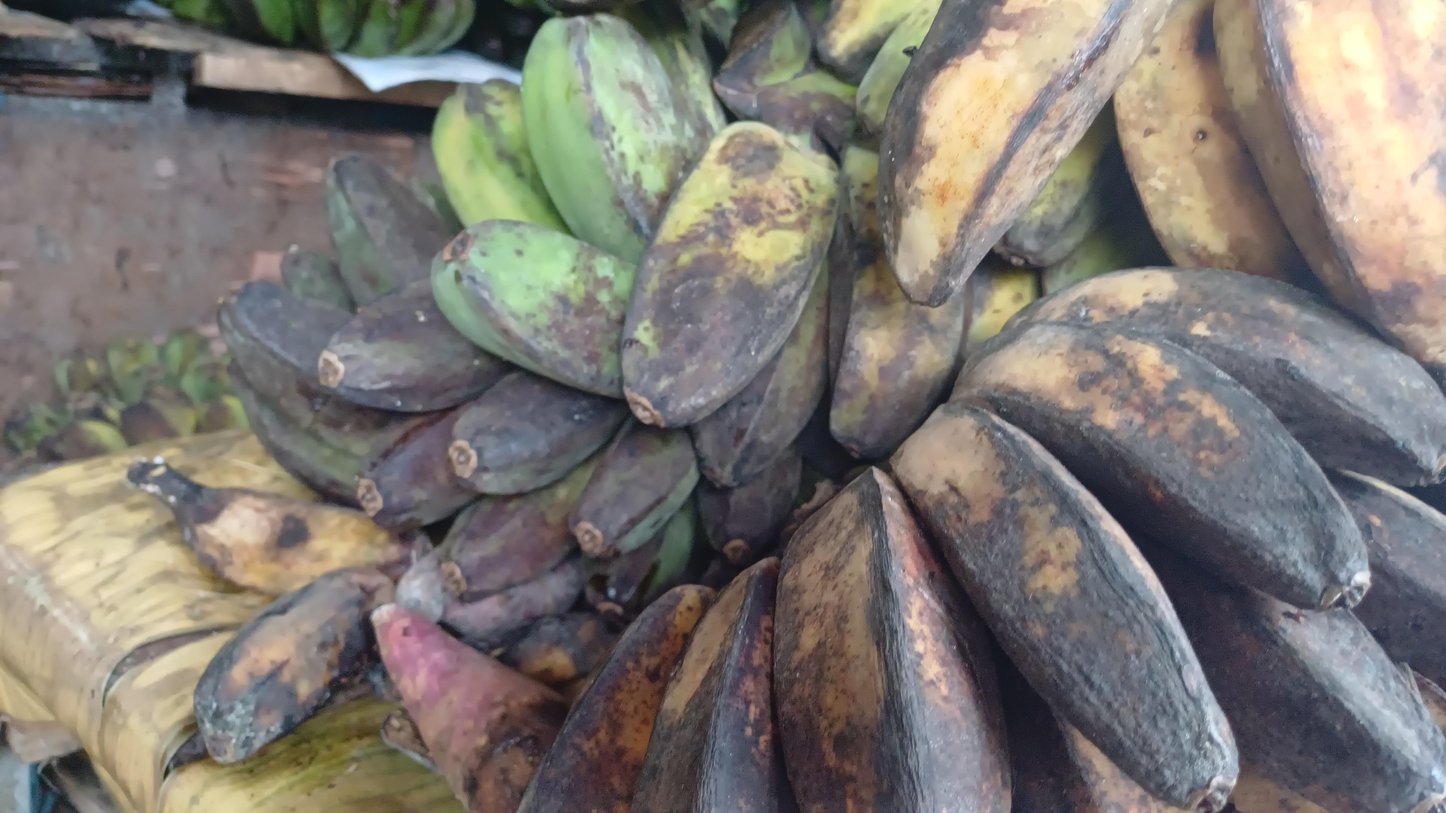overripe: (519, 268, 1446, 813)
ripe: (877, 0, 1446, 380)
underripe: (622, 121, 1039, 486), (357, 371, 803, 607), (218, 156, 455, 504), (432, 13, 726, 266), (316, 220, 634, 412)
